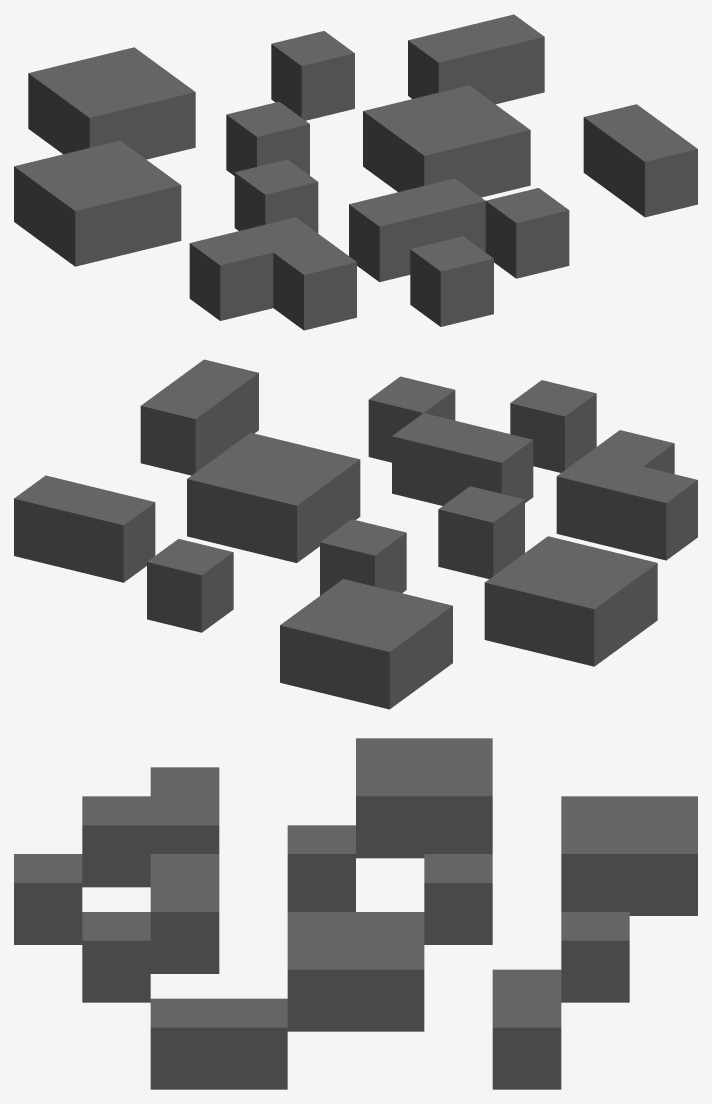
Rendered from stone_03.obj.
The picture shows the model from 3 angles, top to bottom: view 1: azimuth 30°, elevation 25°; view 2: azimuth 150°, elevation 25°; view 3: azimuth 270°, elevation 25°; orthographic projection. The views are drawn at different scales.
Parts seen in each view (by area): view 1: stone_03; view 2: stone_03; view 3: stone_03.
Boxes of the visible parts, <box> form: stone_03: <box>14,14,697,330</box>; stone_03: <box>14,359,697,709</box>; stone_03: <box>14,738,697,1089</box>.
Bounding box in the file's own units: 10 × 1 × 10.
